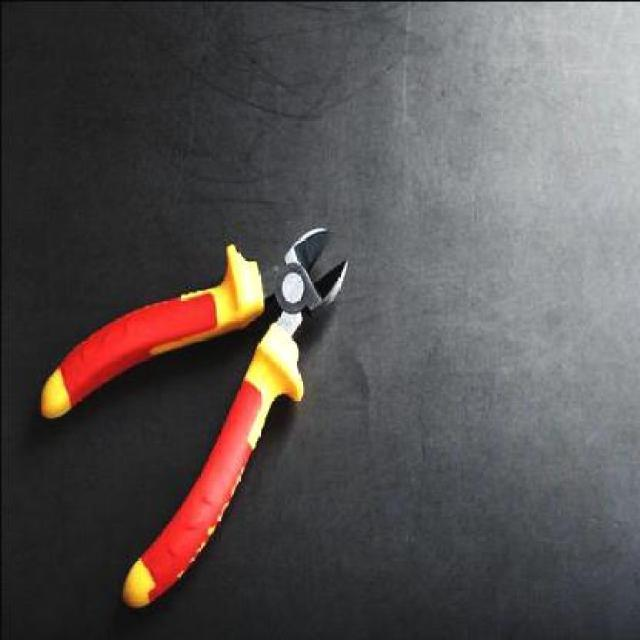pliers: (29, 222, 349, 607)
